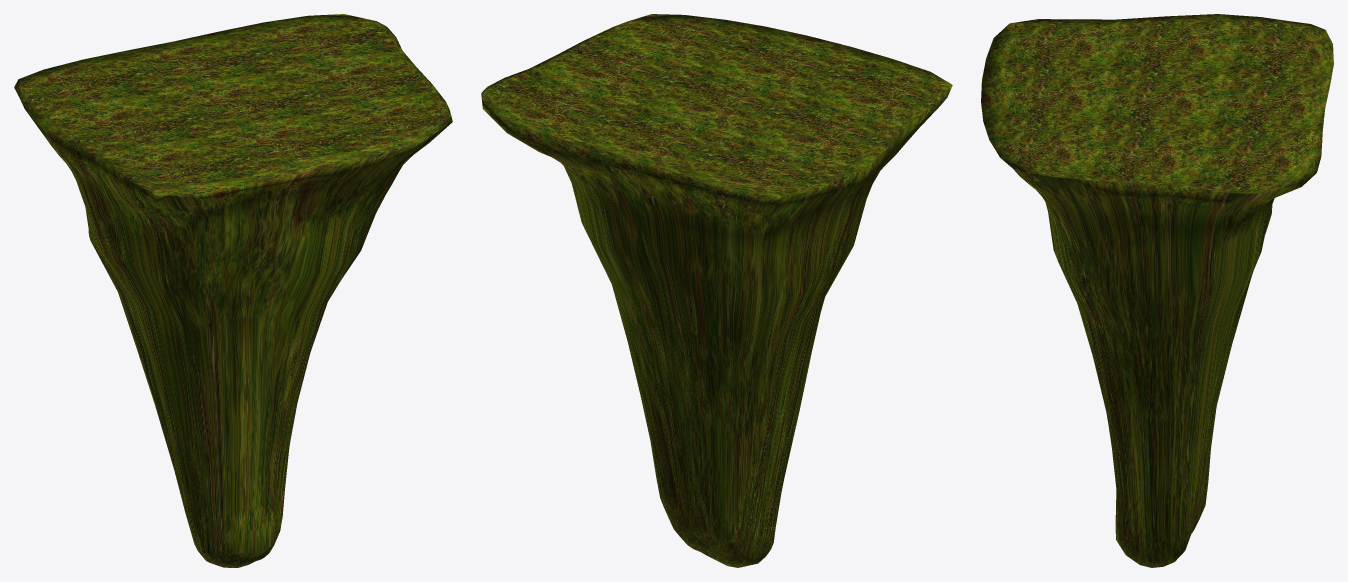
File: LVL_ROAST_MUTTON_ROCK01_MUSHROOM.fbx
3 views of the same model, side by side, from view 1: azimuth 30°, elevation 25°; view 2: azimuth 150°, elevation 25°; view 3: azimuth 270°, elevation 25° (orthographic). The views are drawn at different scales.
Parts seen in each view (by area): view 1: LVL_ROAST_MUTTON_ROCK01_MUSHROOM; view 2: LVL_ROAST_MUTTON_ROCK01_MUSHROOM; view 3: LVL_ROAST_MUTTON_ROCK01_MUSHROOM.
Boxes of the visible parts, bbox=[...] form: LVL_ROAST_MUTTON_ROCK01_MUSHROOM: bbox=[14, 14, 452, 567]; LVL_ROAST_MUTTON_ROCK01_MUSHROOM: bbox=[481, 14, 952, 567]; LVL_ROAST_MUTTON_ROCK01_MUSHROOM: bbox=[981, 14, 1333, 567].
Bounding box in the file's own units: 72927 × 87974 × 60353.
1 material, 1 textured.
